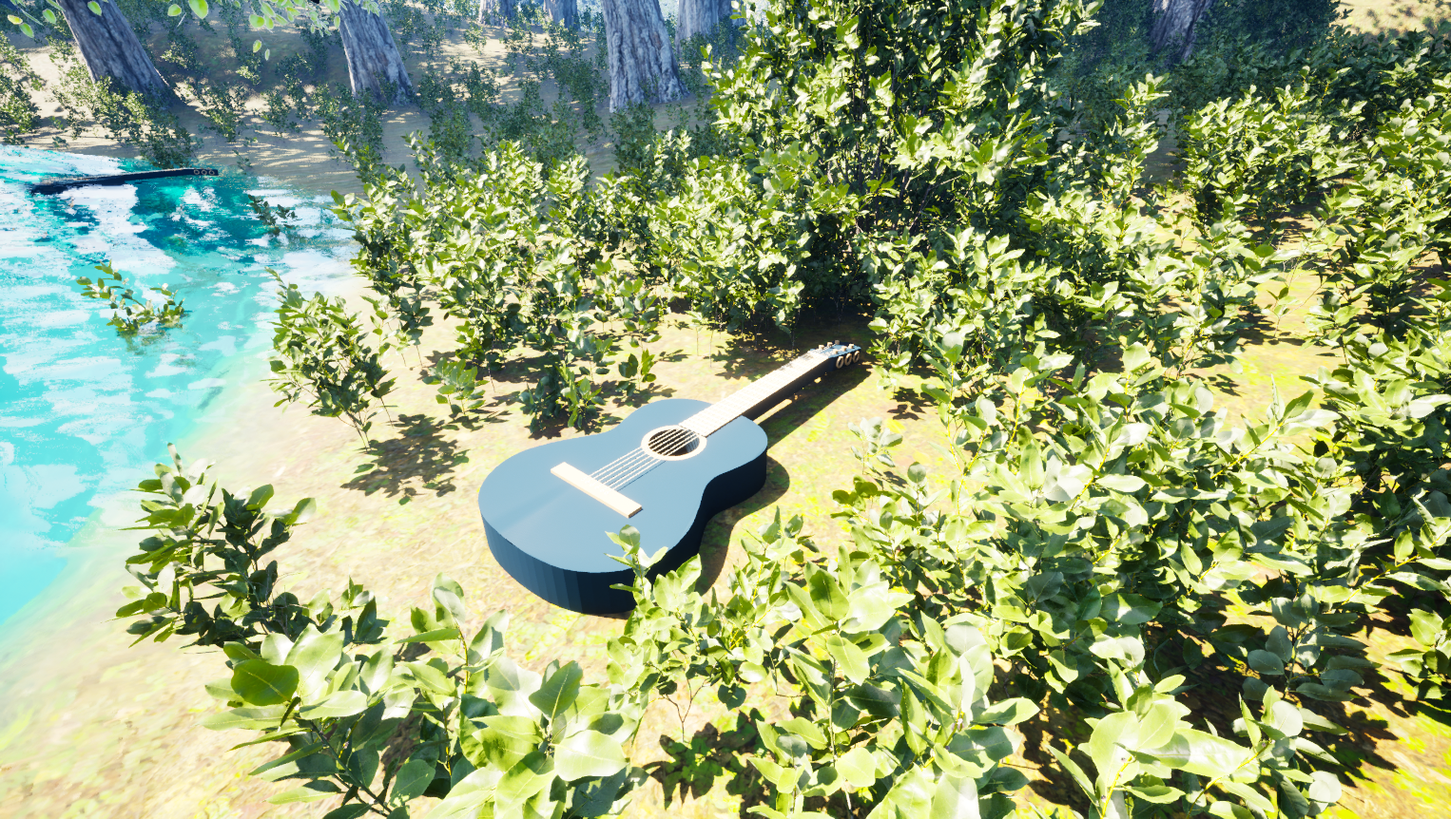Guitar: (440, 316, 922, 649)
